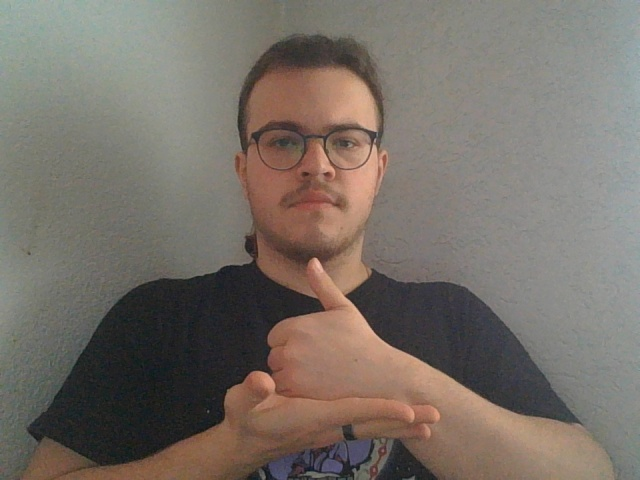Help: (223, 256, 442, 455)
